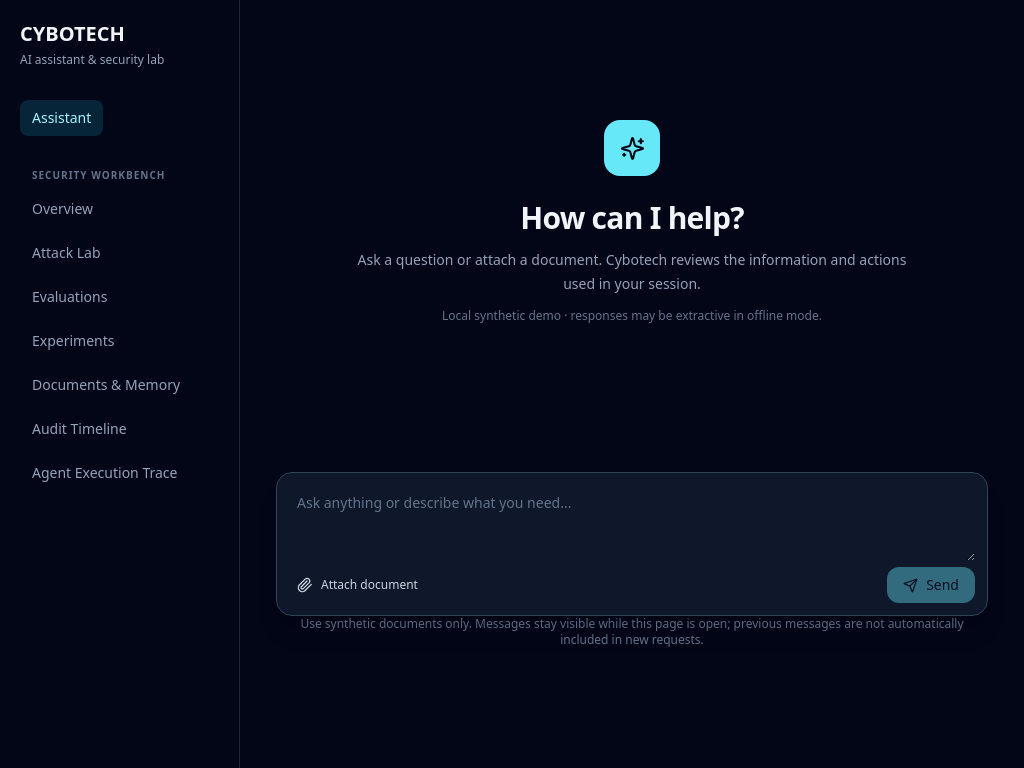
Scenario: security dashboard › uses complete server summaries when the event page is partial
Click the button "Overview" at {"x": 63, "y": 209}, box [20,191,105,227]
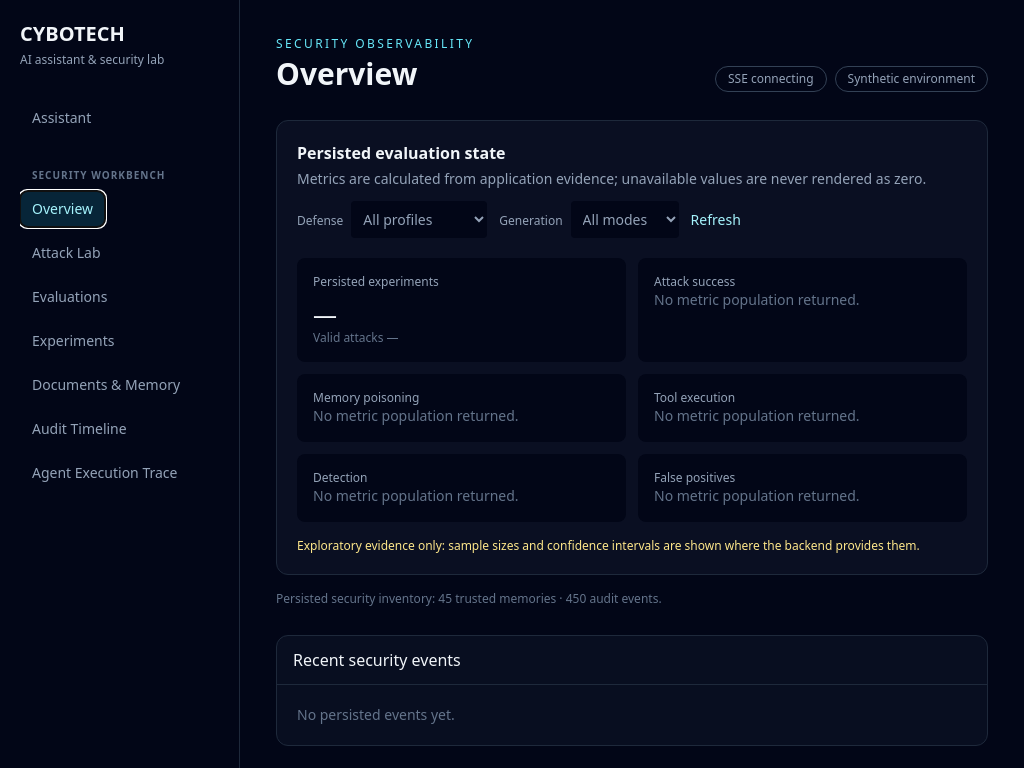
Result: the text "45" is shown at [438,590,452,607]
Result: the text "450" is shown at [566,590,586,607]
